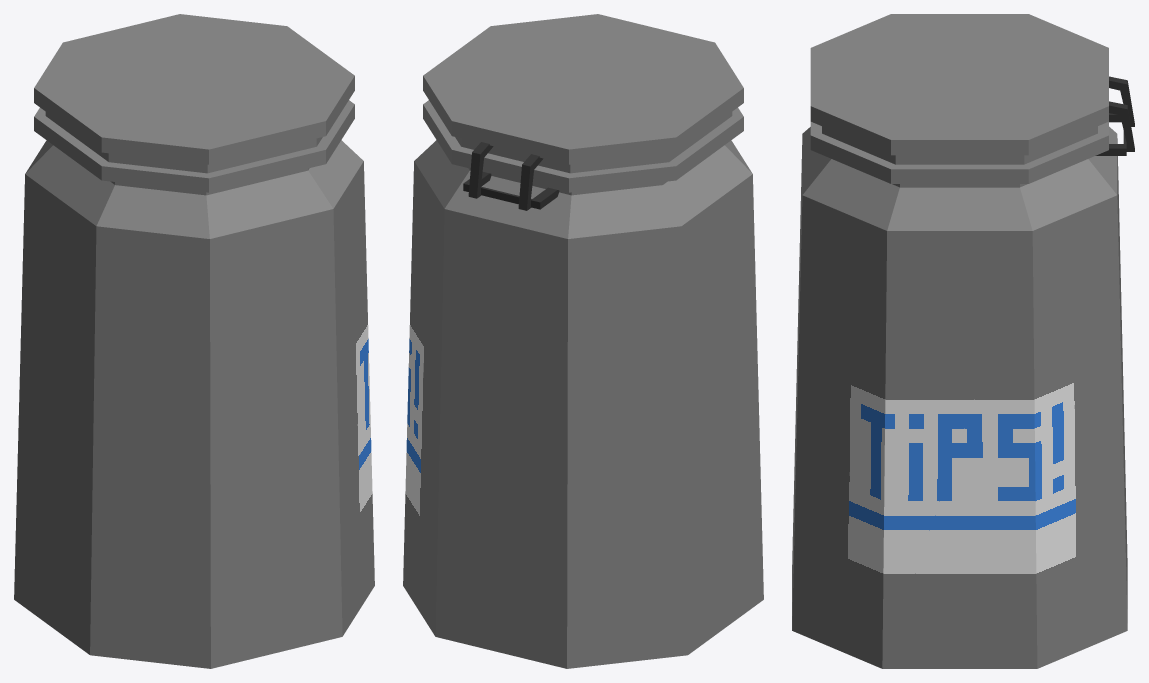
Rendered from Tip_Jar_Full.fbx.
The picture shows the model from 3 angles, left to right: view 1: azimuth 30°, elevation 25°; view 2: azimuth 150°, elevation 25°; view 3: azimuth 270°, elevation 25°; orthographic projection.
Parts seen in each view (by area): view 1: Jar, lid; view 2: Jar, lid, Rim, Rim_2; view 3: Jar, lid, Rim.
Boxes of the visible parts, bbox=[...] form: Jar: bbox=[14, 140, 374, 668]; lid: bbox=[34, 14, 354, 192]; Jar: bbox=[403, 140, 763, 668]; lid: bbox=[423, 14, 743, 192]; Rim: bbox=[468, 142, 543, 210]; Rim_2: bbox=[463, 172, 559, 209]; Jar: bbox=[792, 126, 1127, 668]; lid: bbox=[810, 14, 1108, 183]; Rim: bbox=[1109, 76, 1134, 151].
Bounding box in the file's own units: 200 × 343 × 204.
2 materials, 2 textured.
